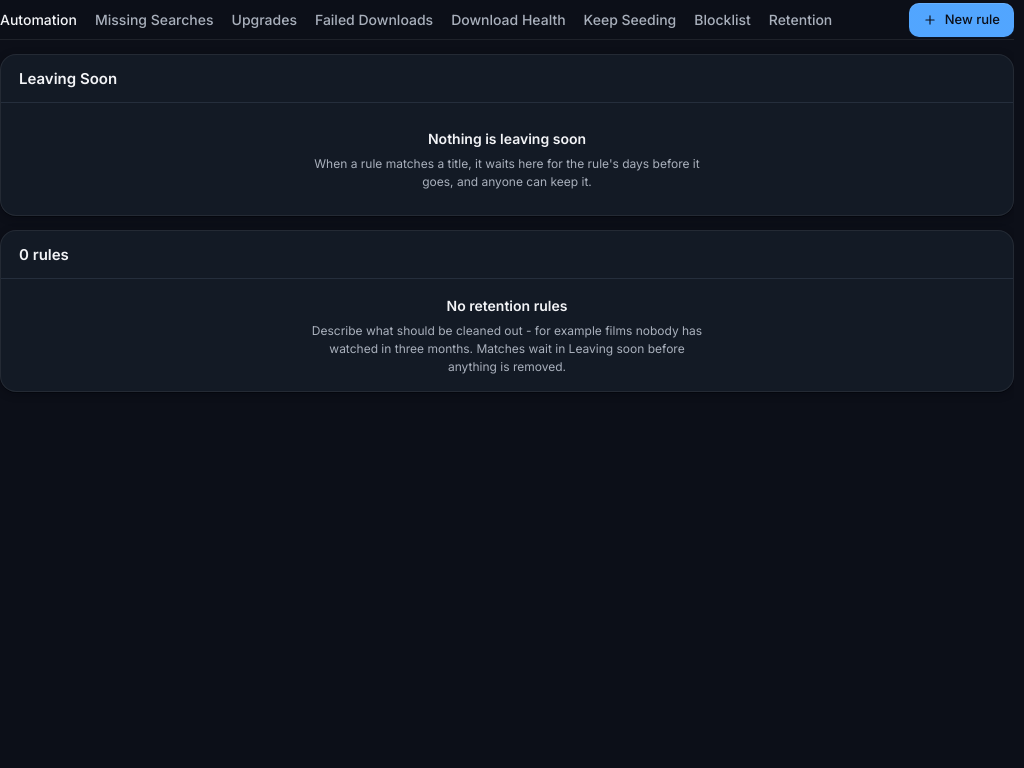
New rule › opens the drawer titled New retention rule with the gentle starting choices
The image size is (1024, 768).
Click the button "New rule".
click(961, 20)  # box [909,2,1014,36]
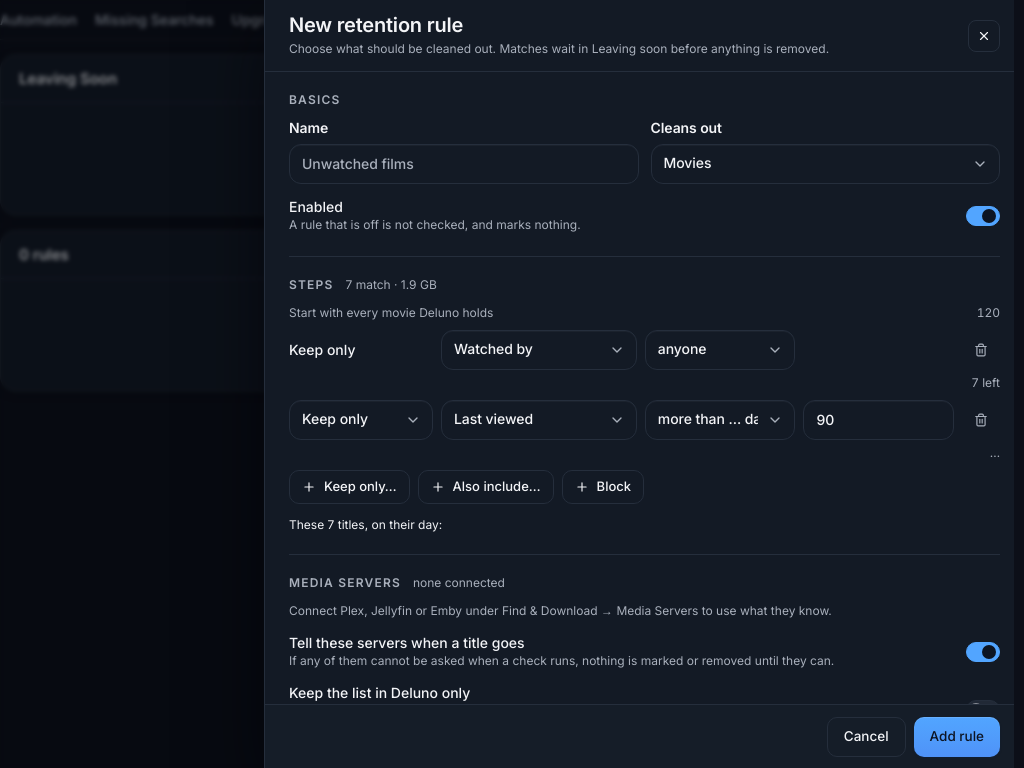
Expected: the heading "New retention rule" is shown, [289,13,463,37]
Expected: the field labelled "Name" is empty, [289,144,638,184]
Expected: the dropdown labelled "Cleans out" shows "Movies", [650,144,1000,184]
